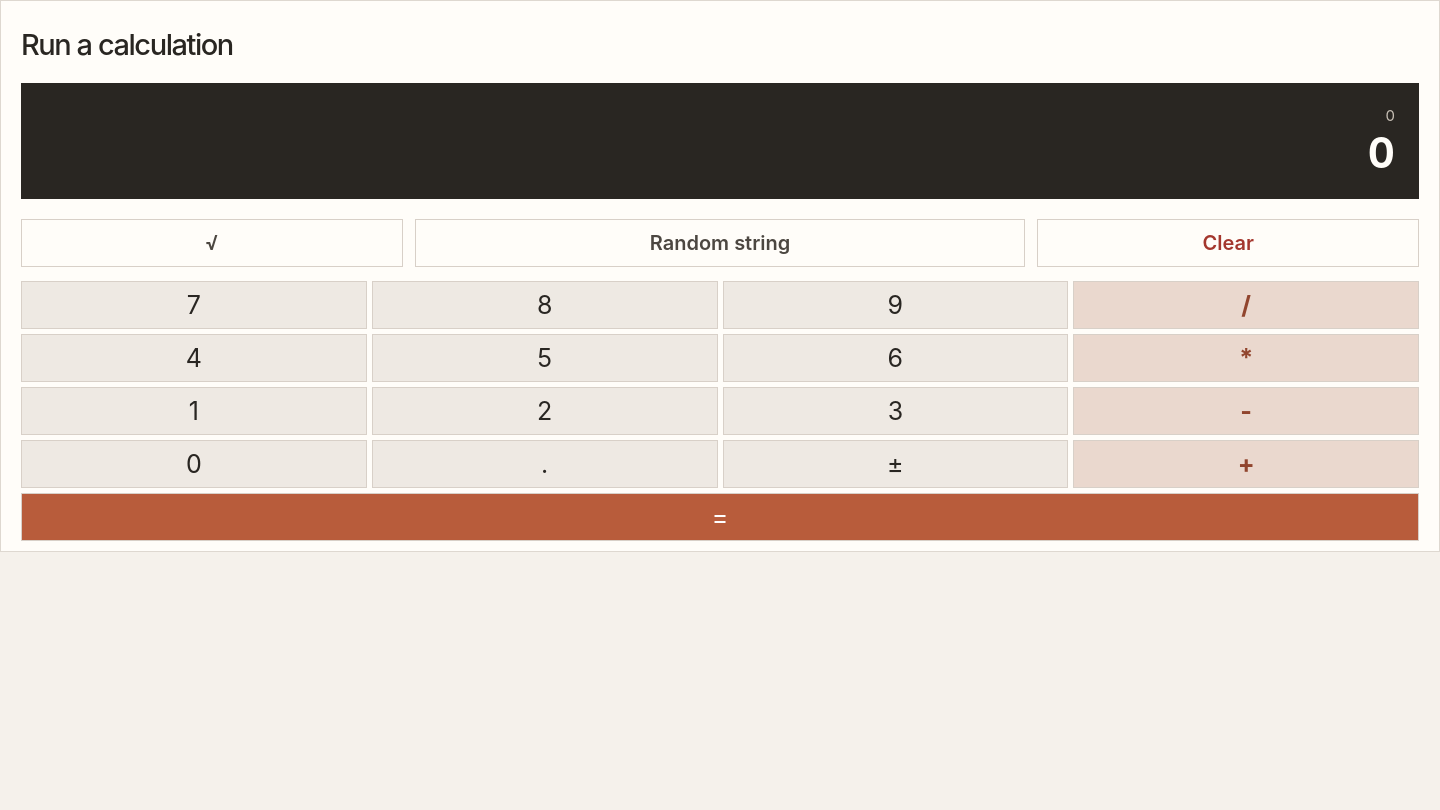
Test case: Calculator › shows the API error and re-enables the calculator
This screenshot has width=1440, height=810.
Click the button "2". click: [545, 411]
box: [372, 387, 718, 435]
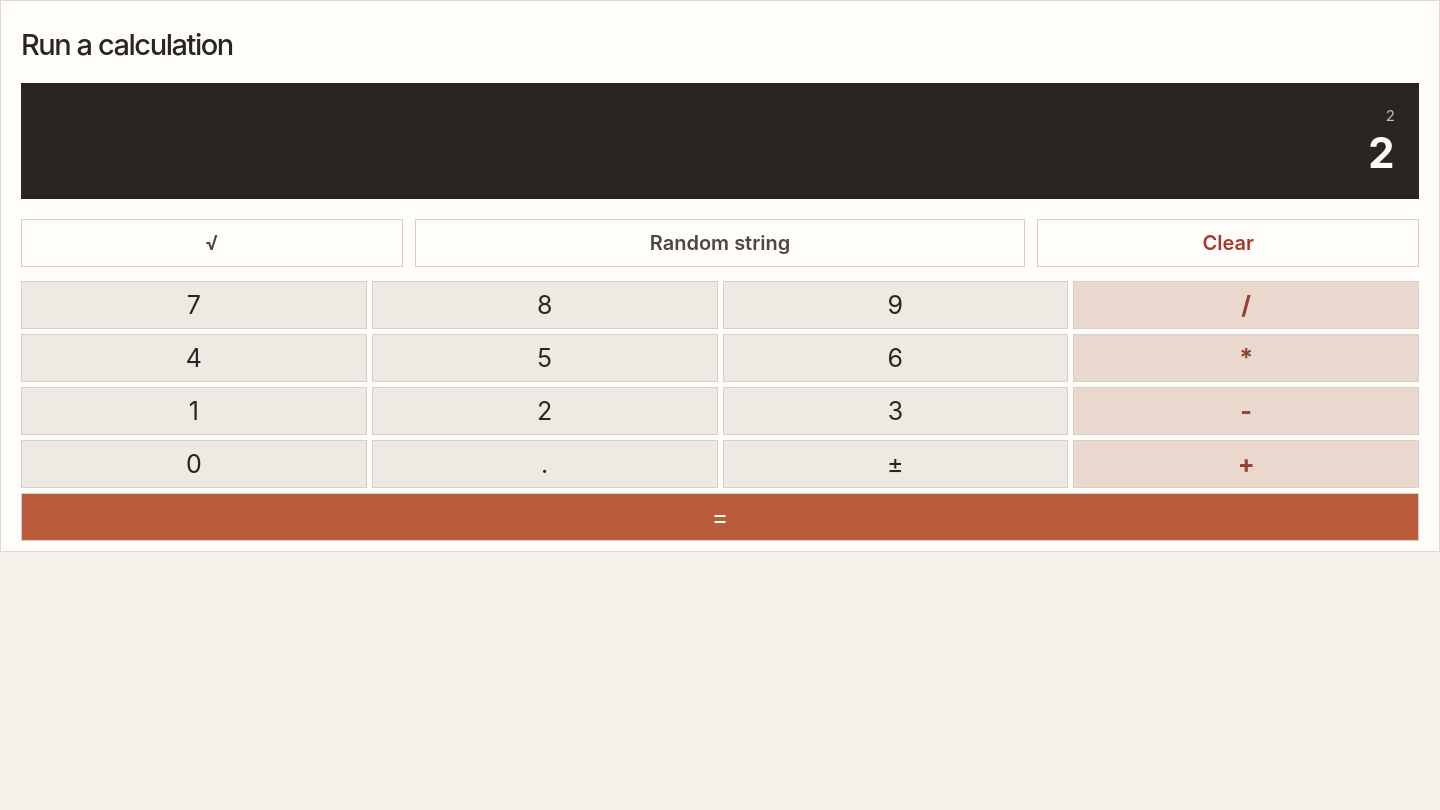
Click the button "+". click: [1246, 464]
box: [1073, 440, 1419, 488]
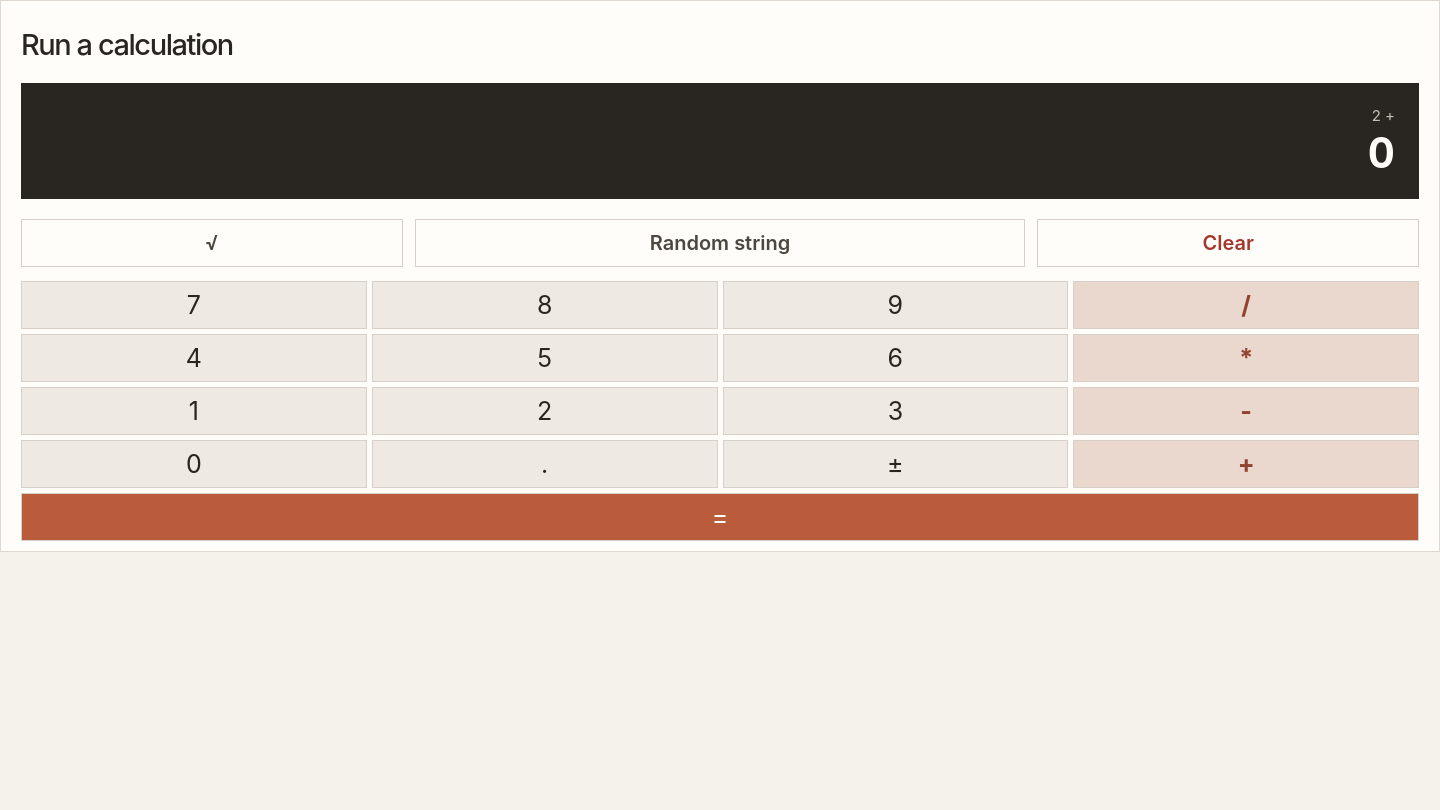
Click the button "3". click: [895, 411]
box: [722, 387, 1068, 435]
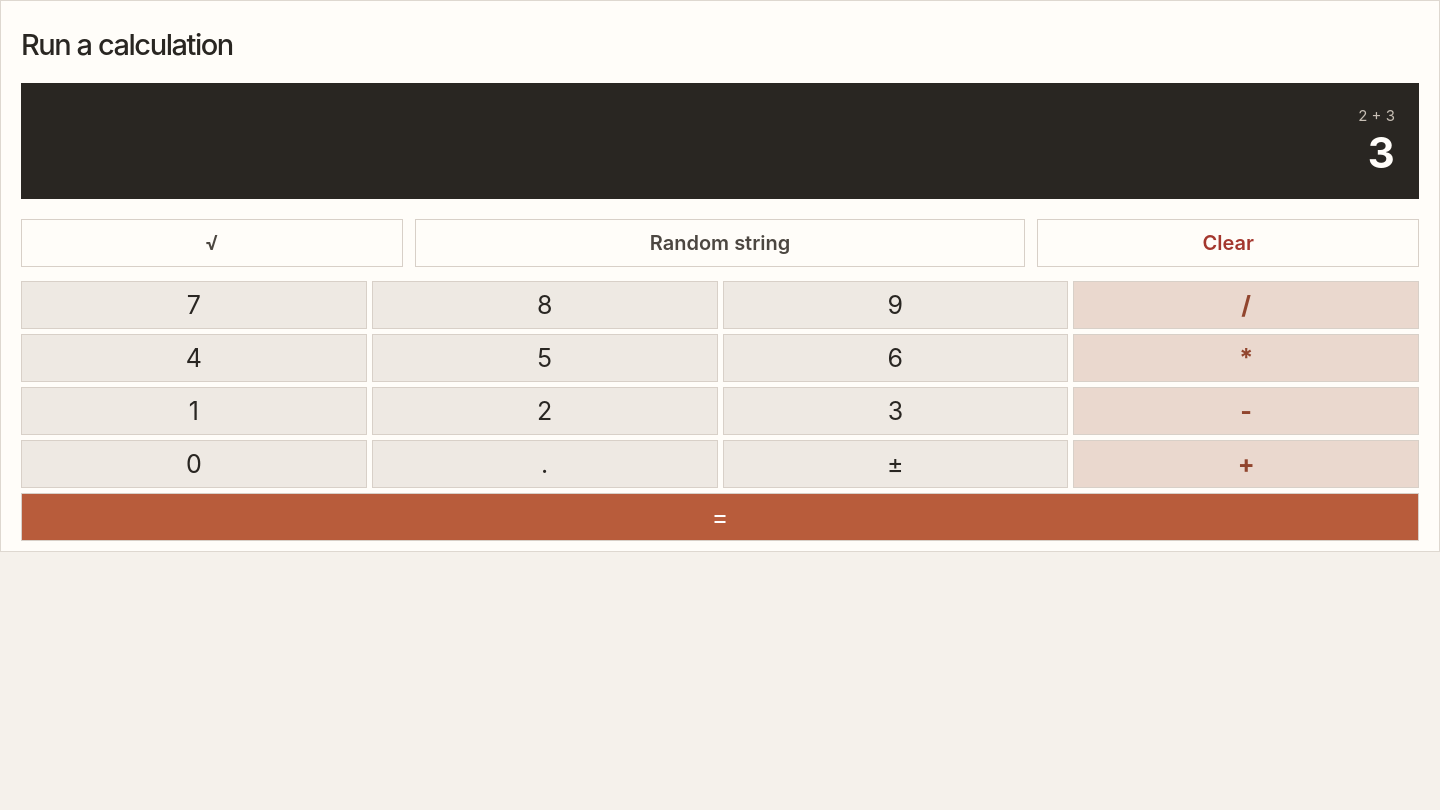
Click the button "=". click: [720, 517]
box: [21, 493, 1419, 541]
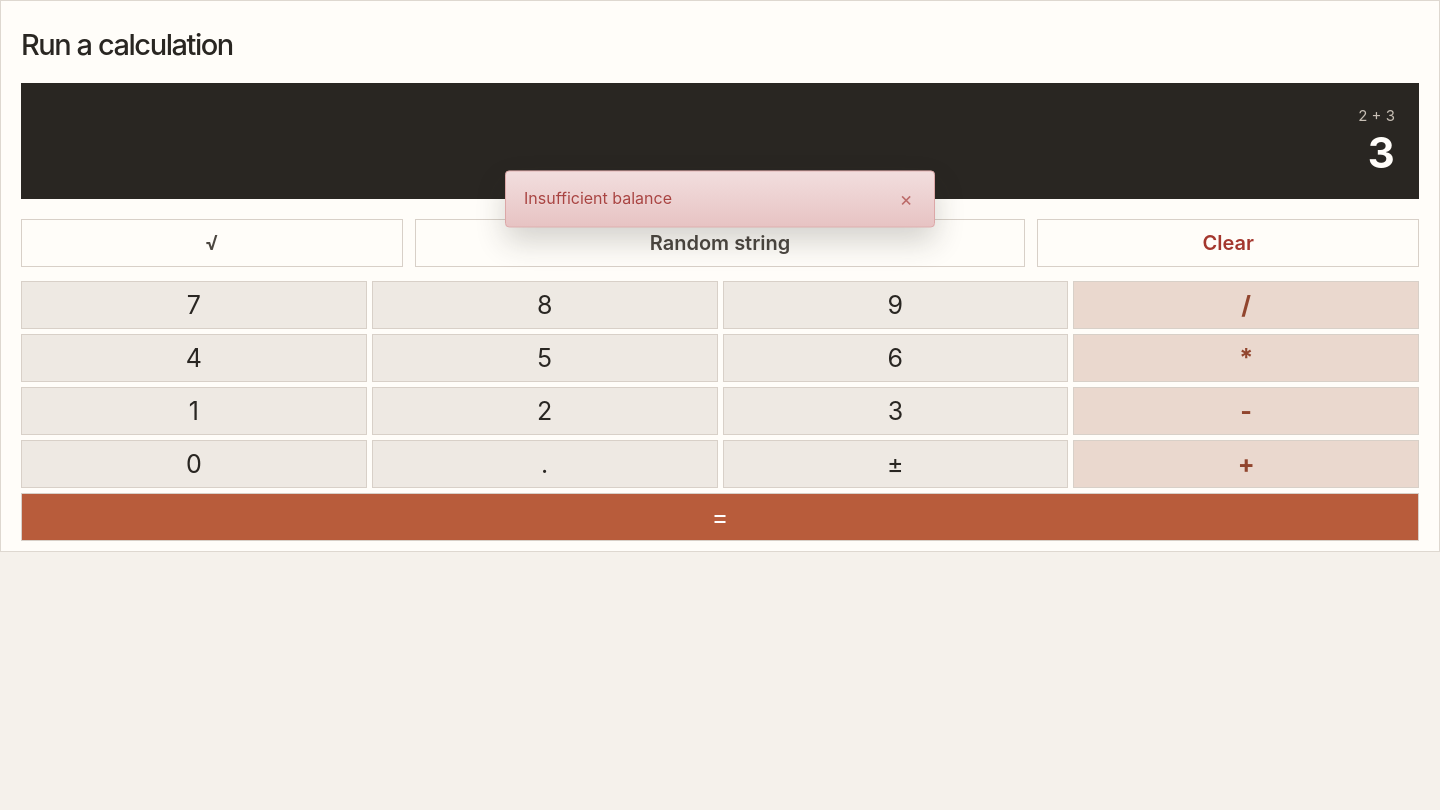
Now the text "Insufficient balance" is shown, box [505, 171, 935, 228]
